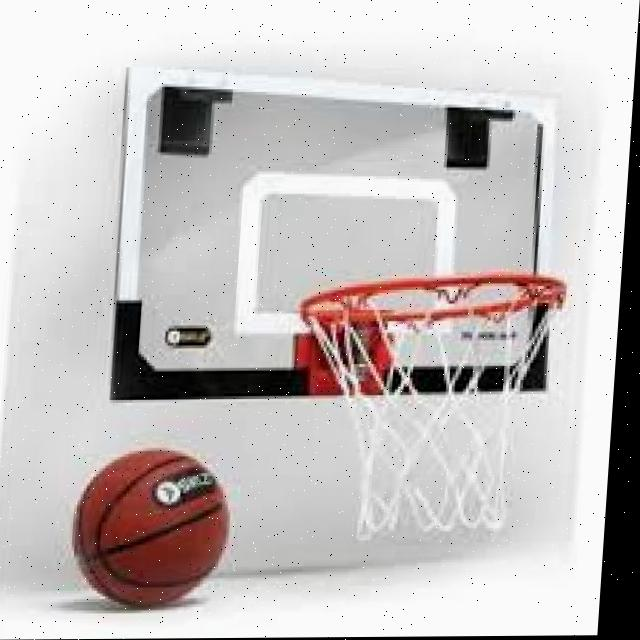basketball: (68, 448, 235, 606)
hoop: (287, 271, 568, 530)
